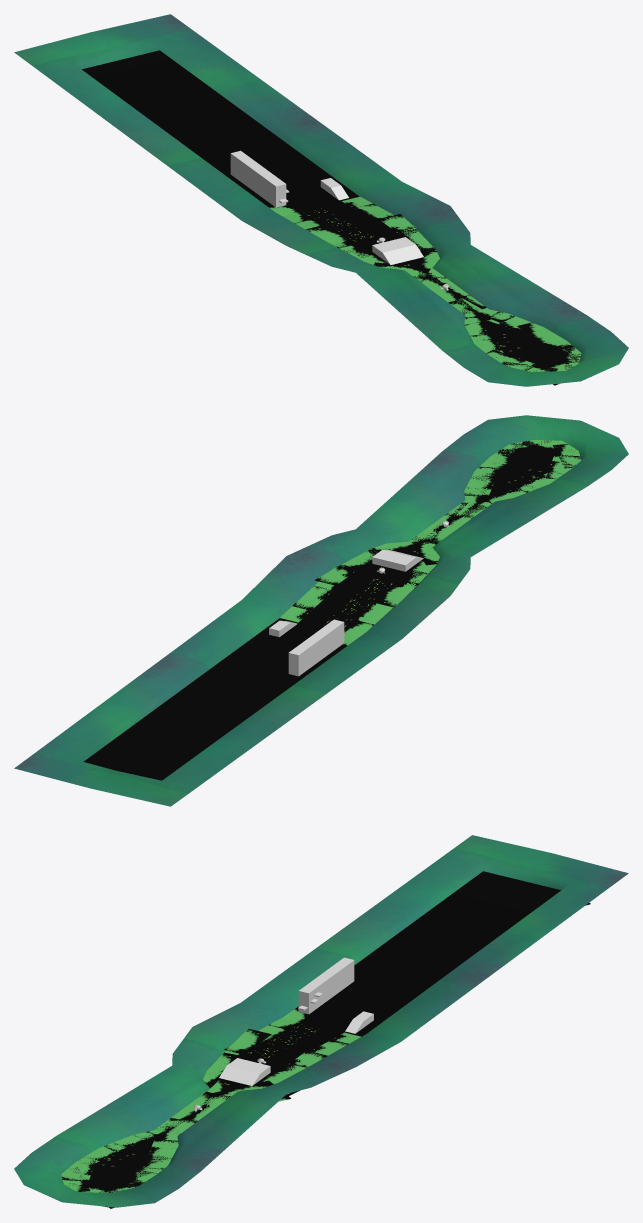
Rendered from stage1.fbx.
The picture shows the model from 3 angles, top to bottom: view 1: azimuth 30°, elevation 25°; view 2: azimuth 150°, elevation 25°; view 3: azimuth 330°, elevation 25°; orthographic projection.
Parts seen in each view (by area): view 1: Backdrop, Leaves, Grass, Cube.002, Cube; view 2: Backdrop, Leaves, Grass, Cube.002, Cube; view 3: Backdrop, Leaves, Grass, Cube.002, Cube.
Boxes of the visible parts, x1,y1,x2,y2 form: Backdrop: [14, 14, 628, 386]; Leaves: [82, 50, 564, 366]; Grass: [269, 196, 581, 385]; Cube.002: [230, 150, 286, 207]; Cube: [372, 237, 423, 264]; Backdrop: [14, 415, 628, 806]; Leaves: [83, 447, 556, 780]; Grass: [280, 440, 581, 645]; Cube.002: [288, 619, 344, 676]; Cube: [372, 549, 423, 571]; Backdrop: [14, 835, 628, 1207]; Leaves: [86, 871, 560, 1189]; Grass: [61, 903, 590, 1208]; Cube.002: [298, 957, 354, 1014]; Cube: [219, 1058, 270, 1085].
Size of the model in its own units: 5181 by 694 by 26797.
5 materials, 3 textured.
